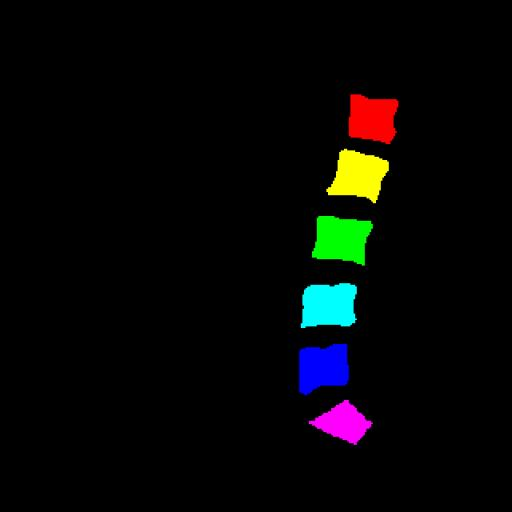L1: (349, 94, 397, 144)
L2: (325, 151, 389, 202)
L3: (312, 216, 373, 266)
L4: (301, 283, 357, 328)
L5: (299, 344, 349, 395)
S1: (309, 400, 372, 444)
